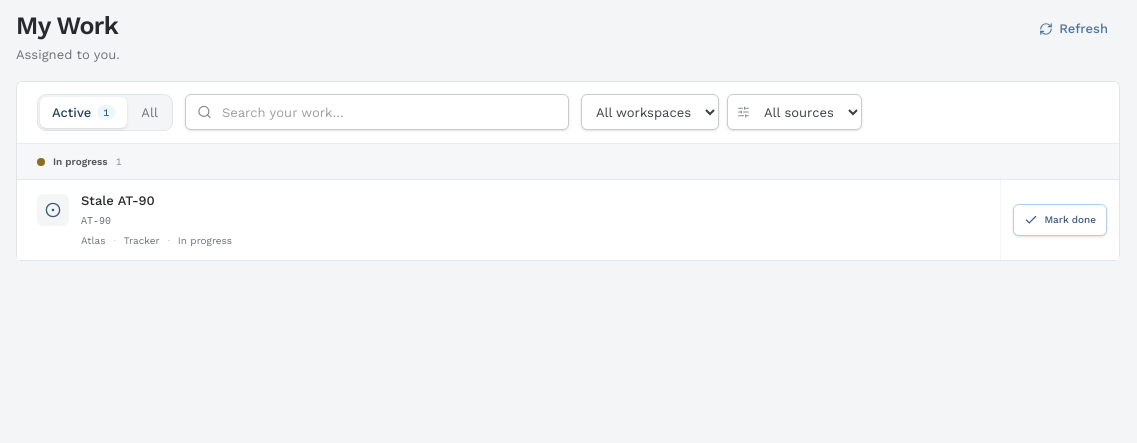
it: MyWorkPage › refreshes the Active list after Mark done a version conflict and removes stale work
Click the button "Mark done": (1060, 220) [1013,204,1107,236]
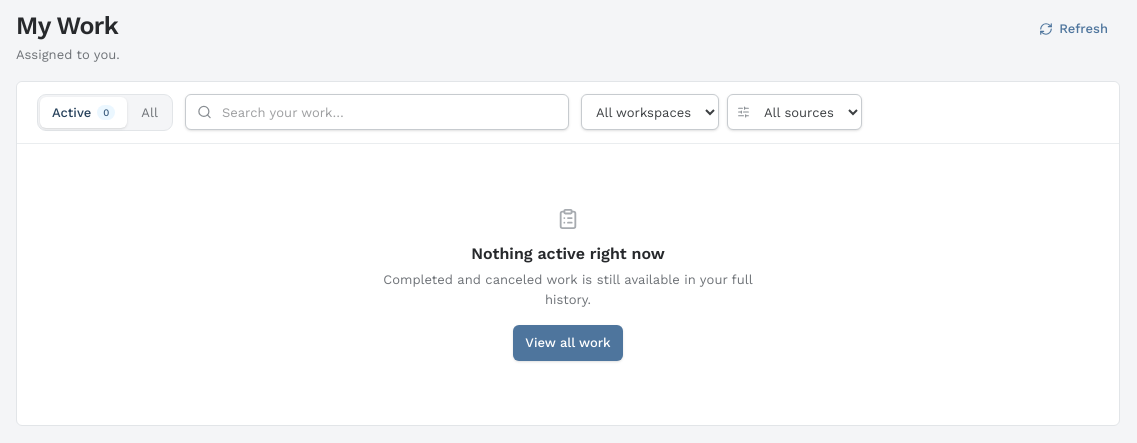
Check: the element with test id "my-work-empty-active" is shown, box [383,208,753,361]
